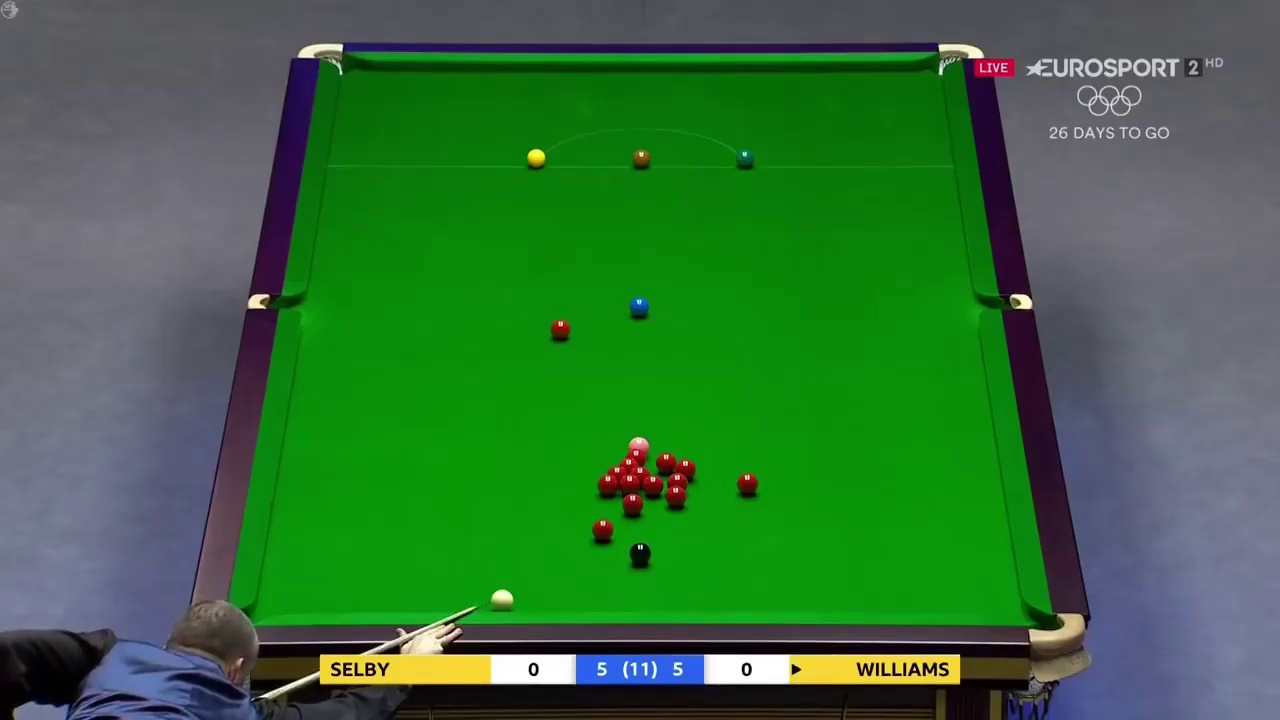ball: (590, 518, 614, 540), (736, 471, 757, 495), (628, 541, 652, 562), (624, 492, 646, 514), (625, 299, 649, 318), (733, 150, 756, 169), (526, 149, 547, 169), (551, 319, 572, 339), (631, 150, 650, 169), (678, 457, 695, 476), (664, 488, 684, 504)
